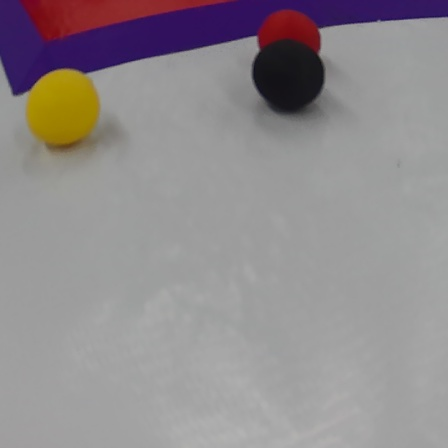black: (250, 37, 327, 114)
red: (257, 10, 322, 65)
